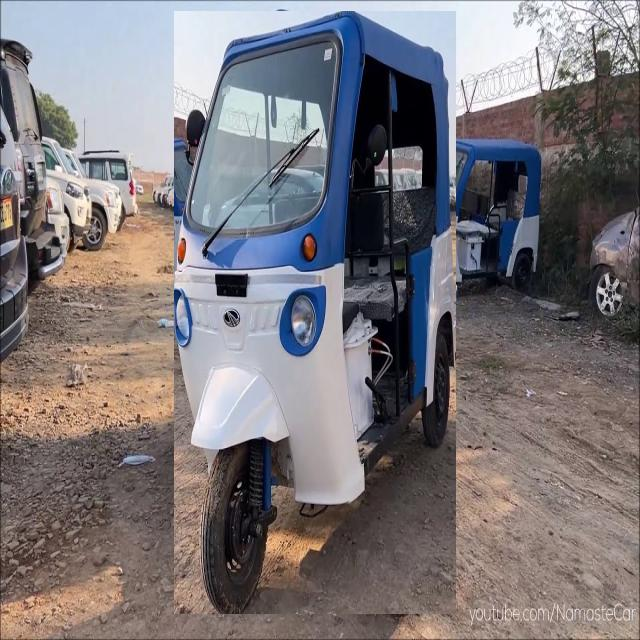autorickshaw: (174, 11, 456, 614), (438, 138, 541, 291), (80, 149, 138, 226)
